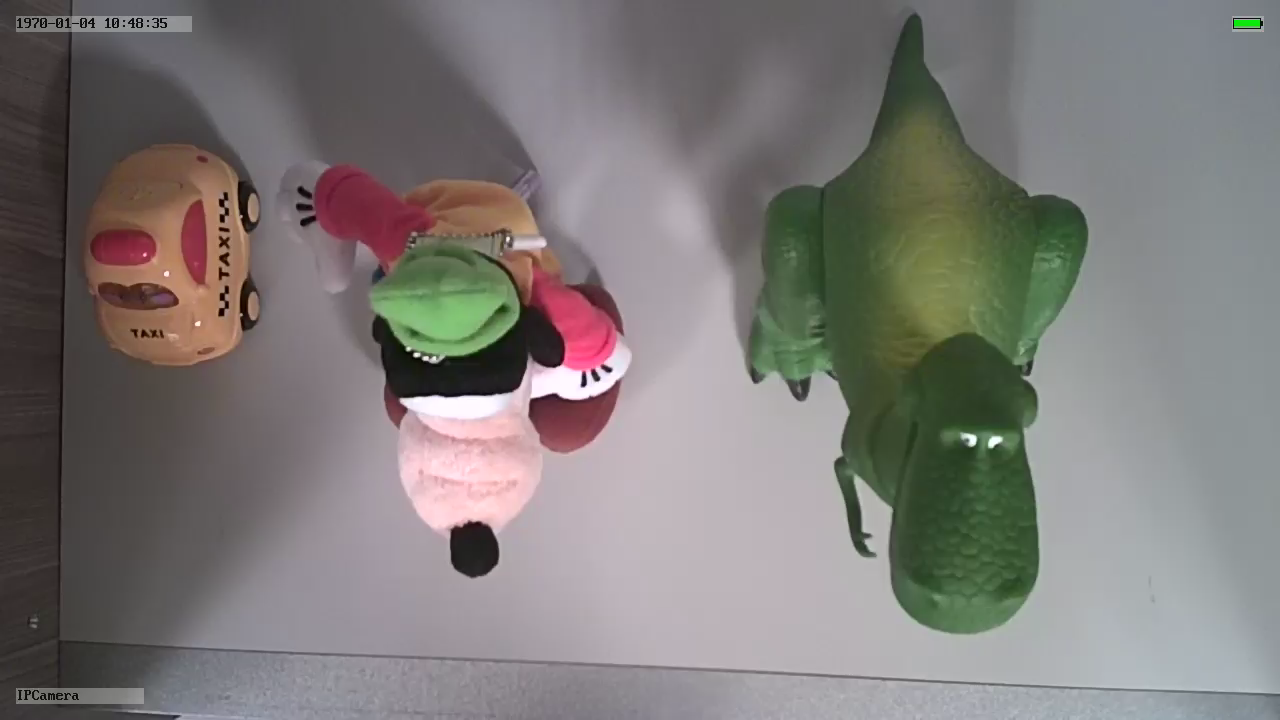goofy: (275, 146, 638, 585)
